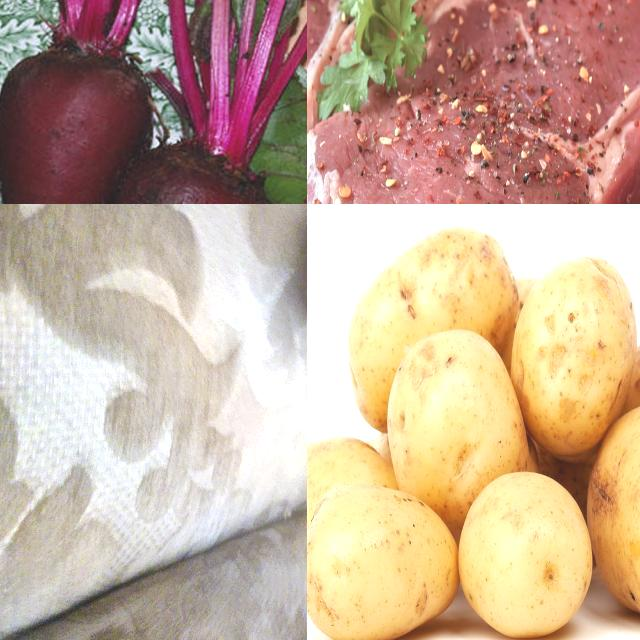beet: (10, 51, 154, 205), (124, 158, 261, 205)
potato: (348, 229, 522, 430), (391, 329, 525, 530), (512, 259, 638, 455), (308, 487, 458, 640), (462, 471, 591, 640), (308, 438, 399, 600), (592, 407, 640, 636)
